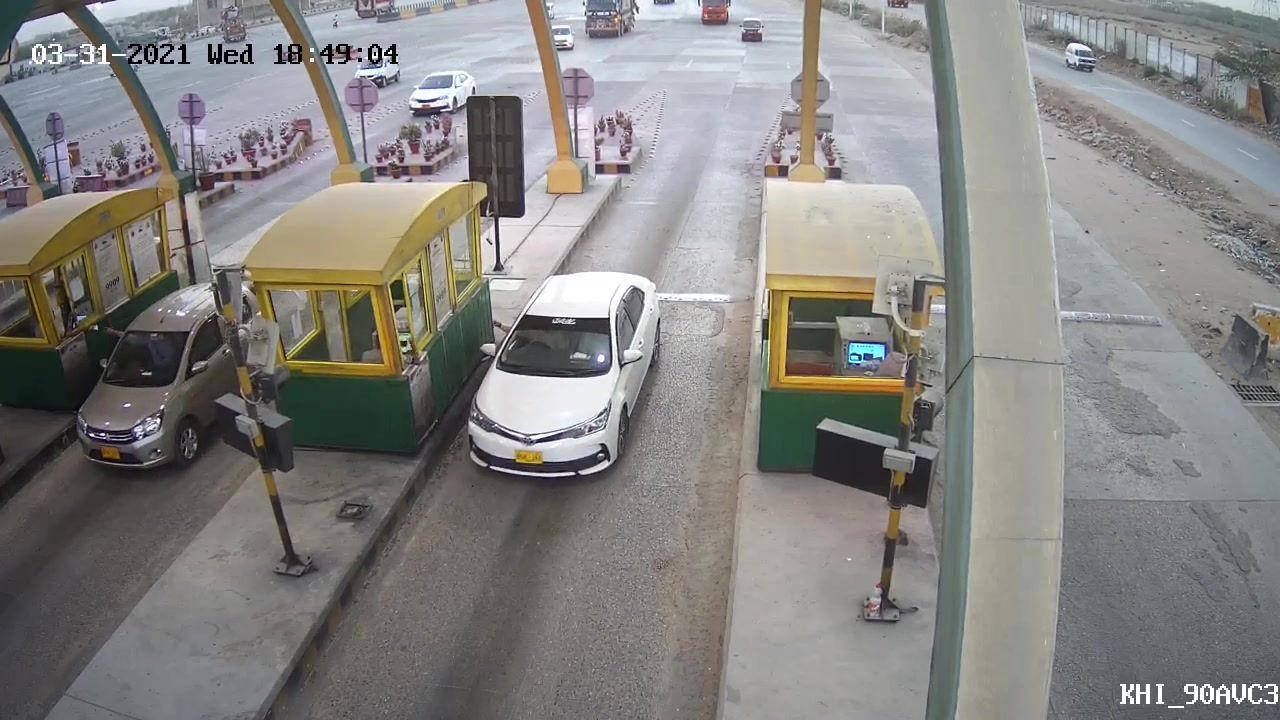F1: (451, 259, 670, 486)
